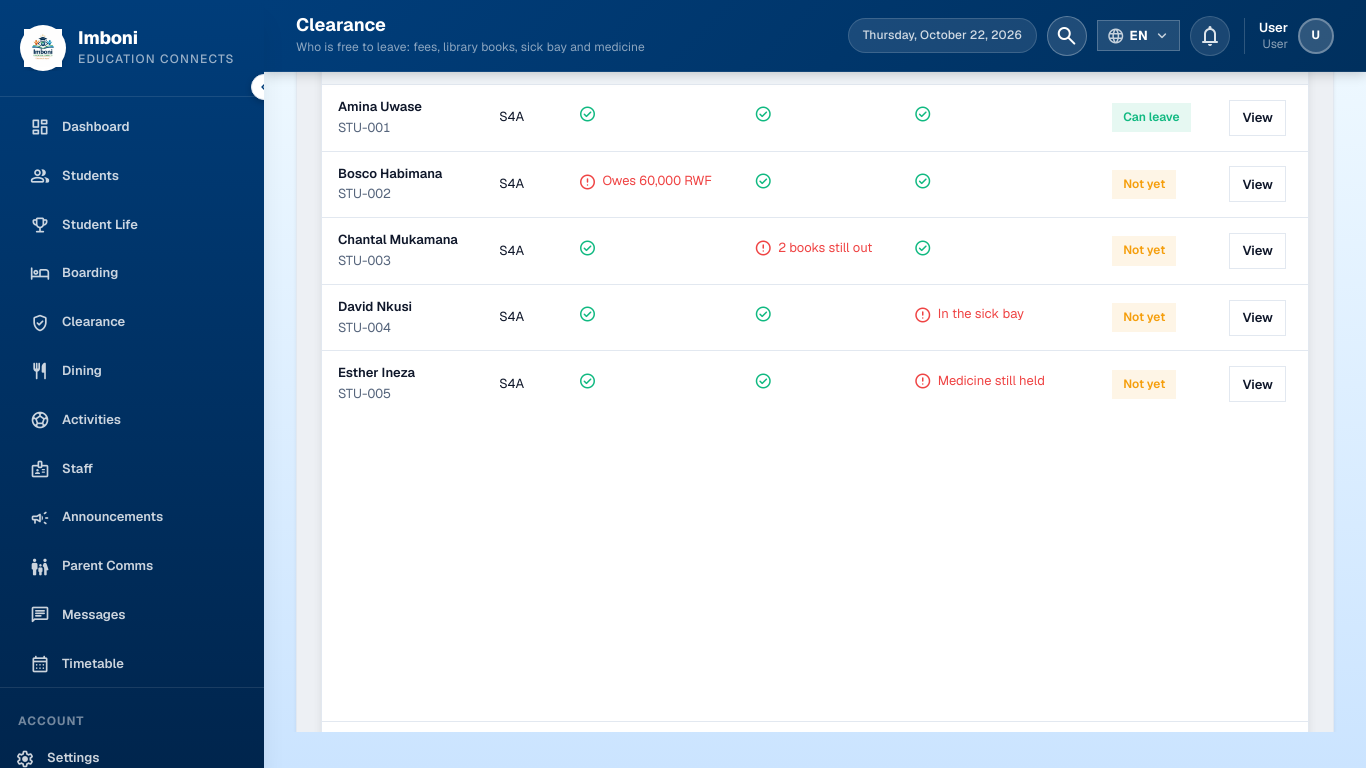
DisClearance › names the medicine still held
(page scrolled)
Expected: the text "Amina Uwase" is shown, [338,98,422,115]
Click the button "View" in the row of "Esther Ineza" at (1258,384), box [1230,366,1286,402]
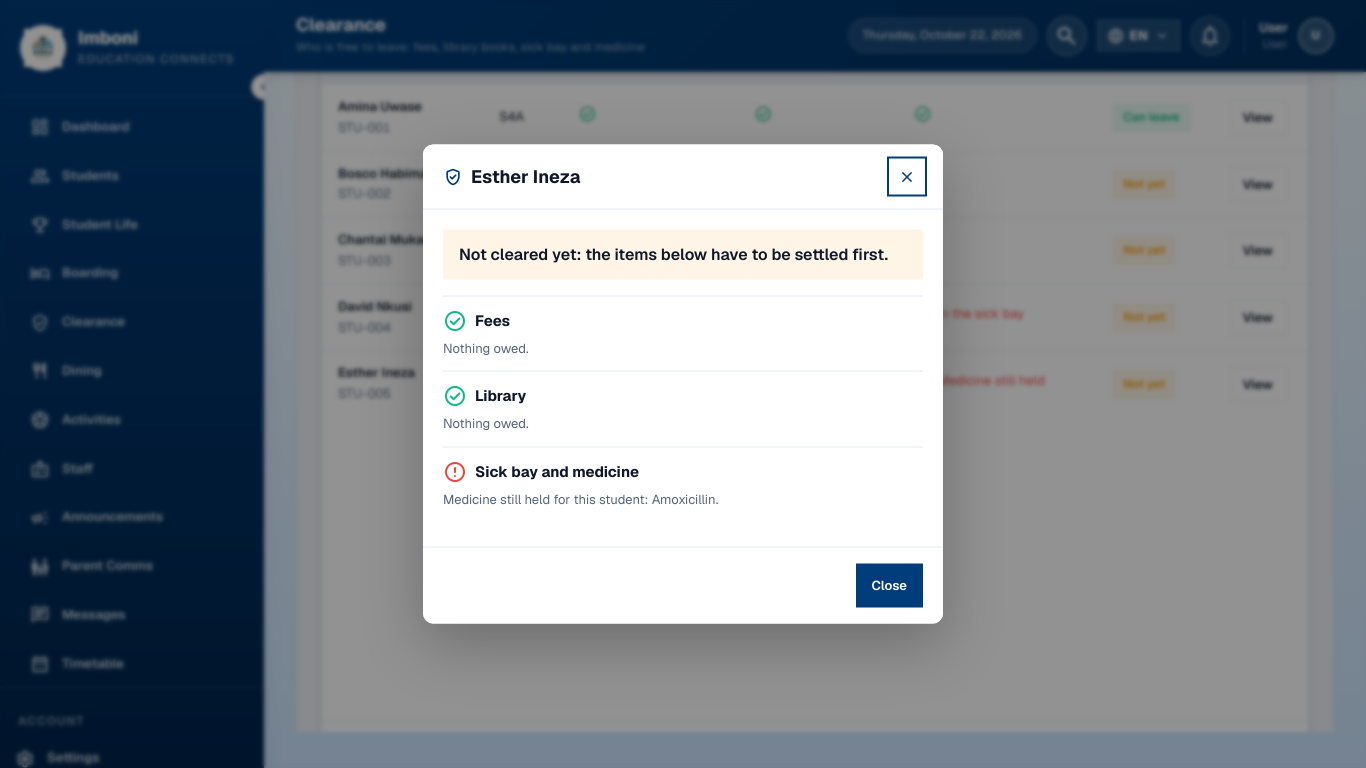
Expected: the text "Medicine still held for this student: Amoxicillin." is shown, [443,491,718,508]
